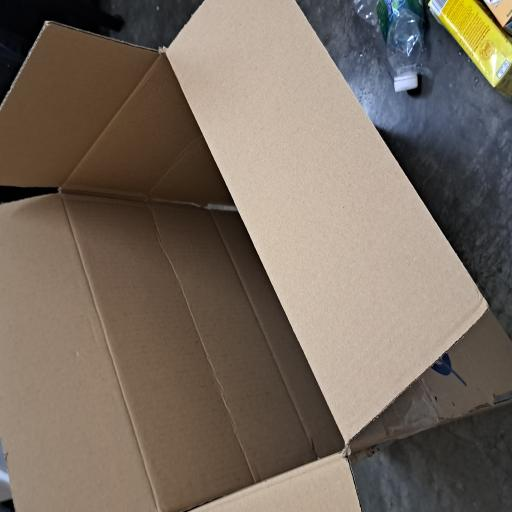cardboard: (0, 0, 384, 512)
plastic bottle: (329, 473, 384, 512)
